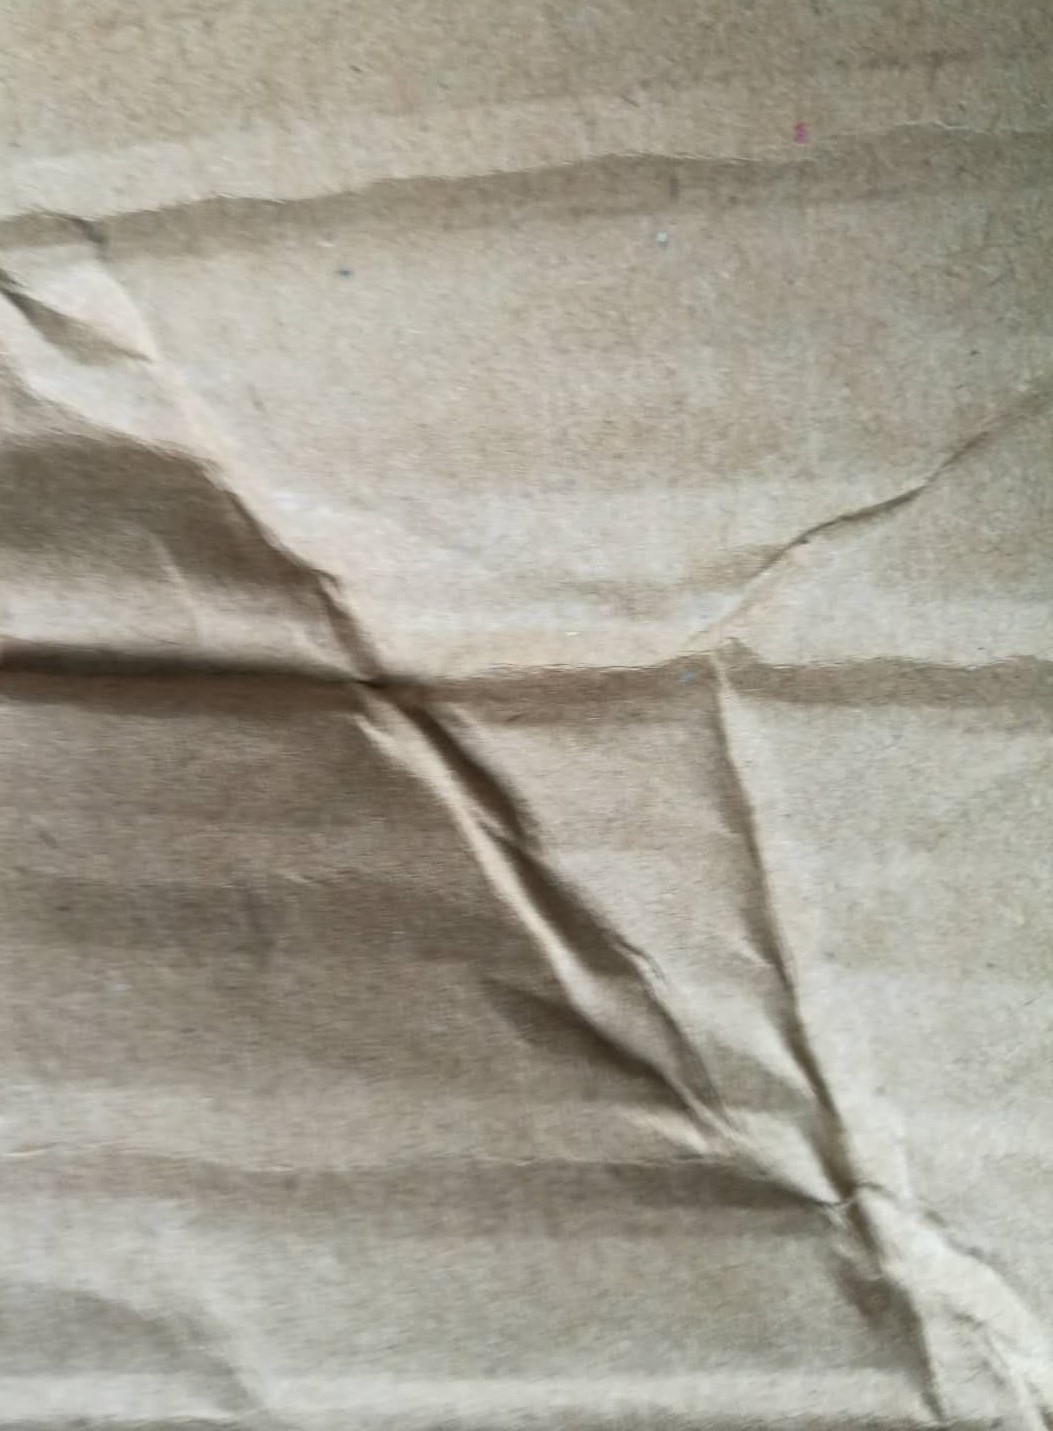defect: (6, 259, 1053, 1430), (1, 61, 1053, 447)
